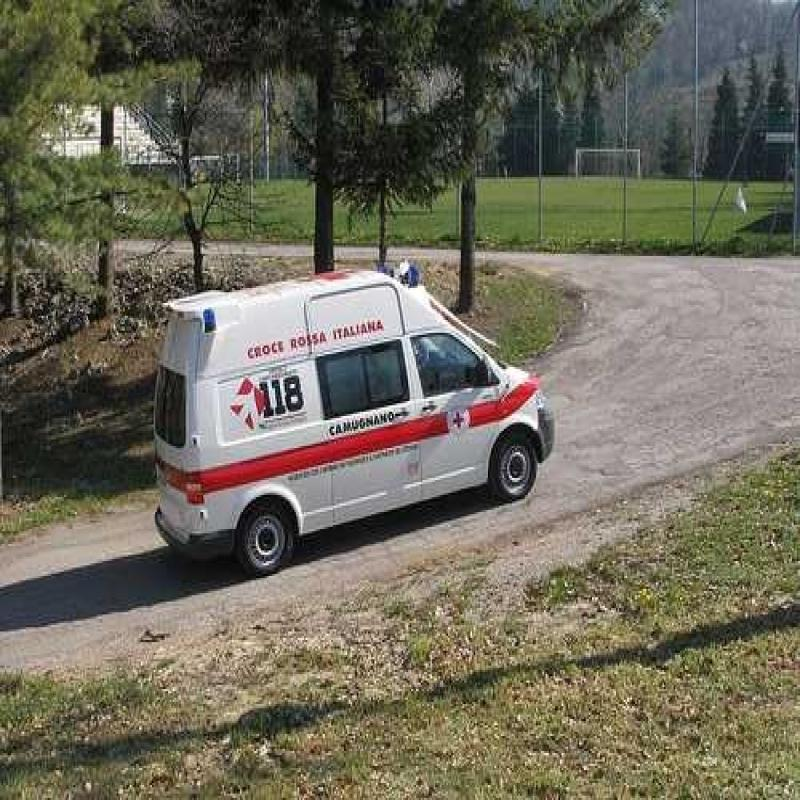ambulance: (153, 263, 581, 547)
